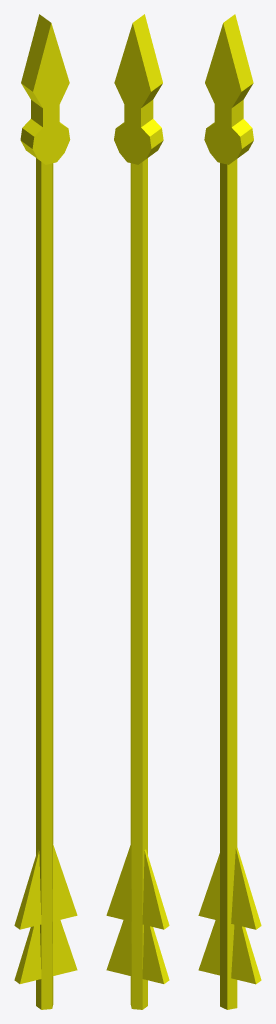
File: _arrow_c_20.glb
3 views of the same model, side by side, from view 1: azimuth 30°, elevation 25°; view 2: azimuth 150°, elevation 25°; view 3: azimuth 330°, elevation 25° (orthographic).
Visible parts, largest first — view 1: arrow_c_20; view 2: arrow_c_20; view 3: arrow_c_20.
Boxes of the visible parts, left/top/right/bottom form: arrow_c_20: left=14, top=14, right=77, bottom=1009; arrow_c_20: left=106, top=14, right=169, bottom=1009; arrow_c_20: left=198, top=14, right=261, bottom=1009.
Size of the model in its own units: 0.0379 by 0.6203 by 0.0138.
Materials: 1 (1 with a texture image).
